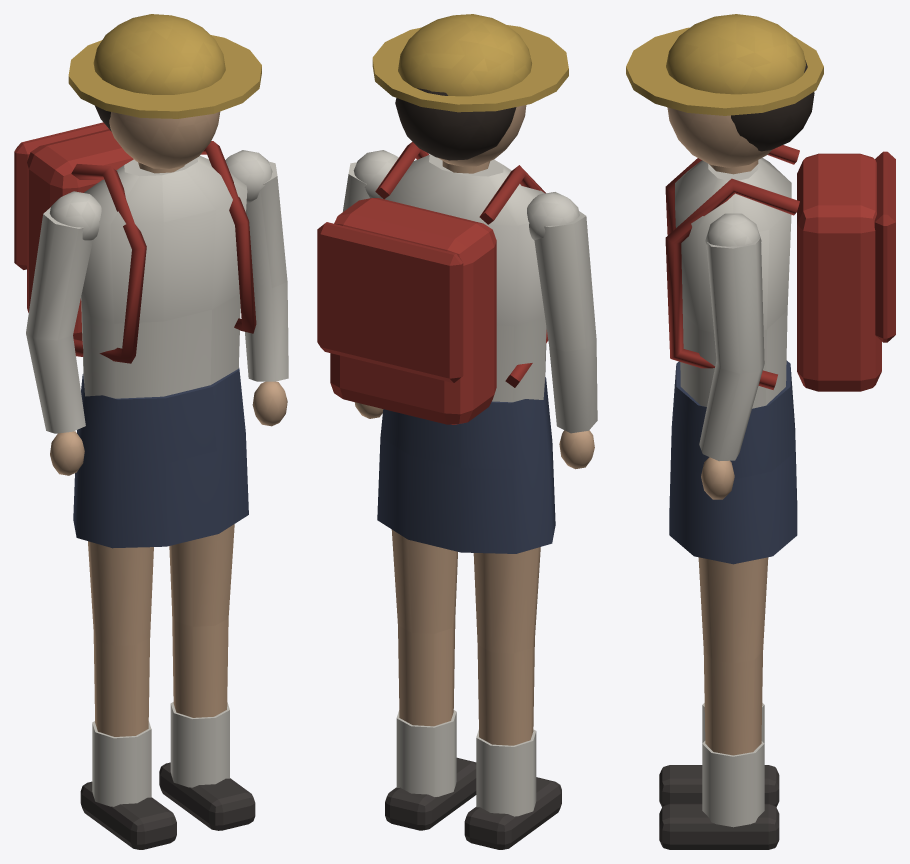
Rendered from people_student_01.glb.
3 renders of one model, left to right at view 1: azimuth 30°, elevation 25°; view 2: azimuth 150°, elevation 25°; view 3: azimuth 270°, elevation 25°, orthographic.
Visible parts, largest first — view 1: people_student_01; view 2: people_student_01; view 3: people_student_01.
Part boxes in pixels (bbox=[...]): people_student_01: bbox=[14, 14, 288, 849]; people_student_01: bbox=[317, 14, 597, 849]; people_student_01: bbox=[626, 14, 895, 849].
Size of the model in its own units: 0.4227 by 1.25 by 0.382.
